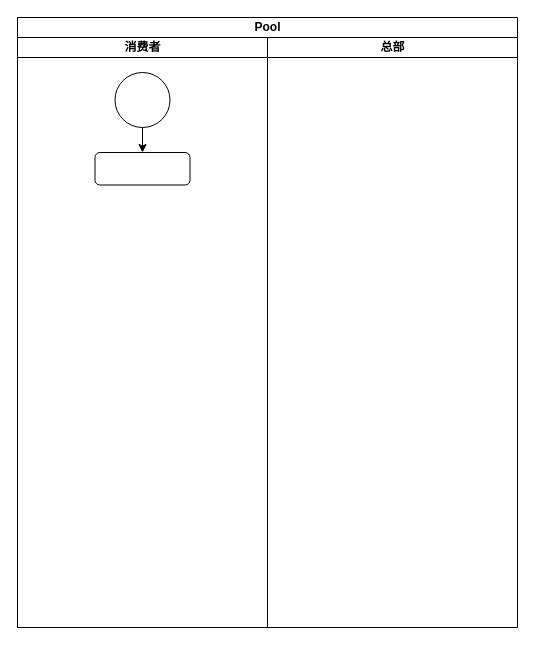
This 535x645 diagram has some shape labels left out. The shapes that lost their labels are listed below. From the top down, each one's centre as x and y in pixels, then its label:
At (x=142, y=100): "扫包装码".
At (x=142, y=168): "进入抽奖页面".
